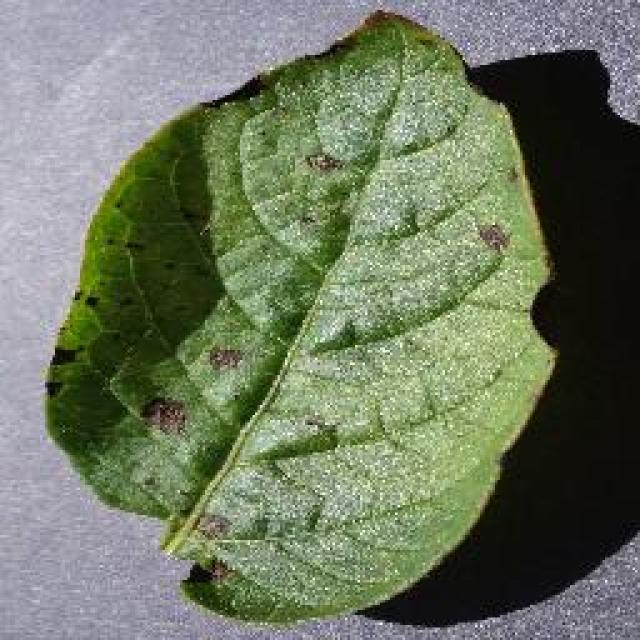early_blight: (38, 8, 562, 628)
